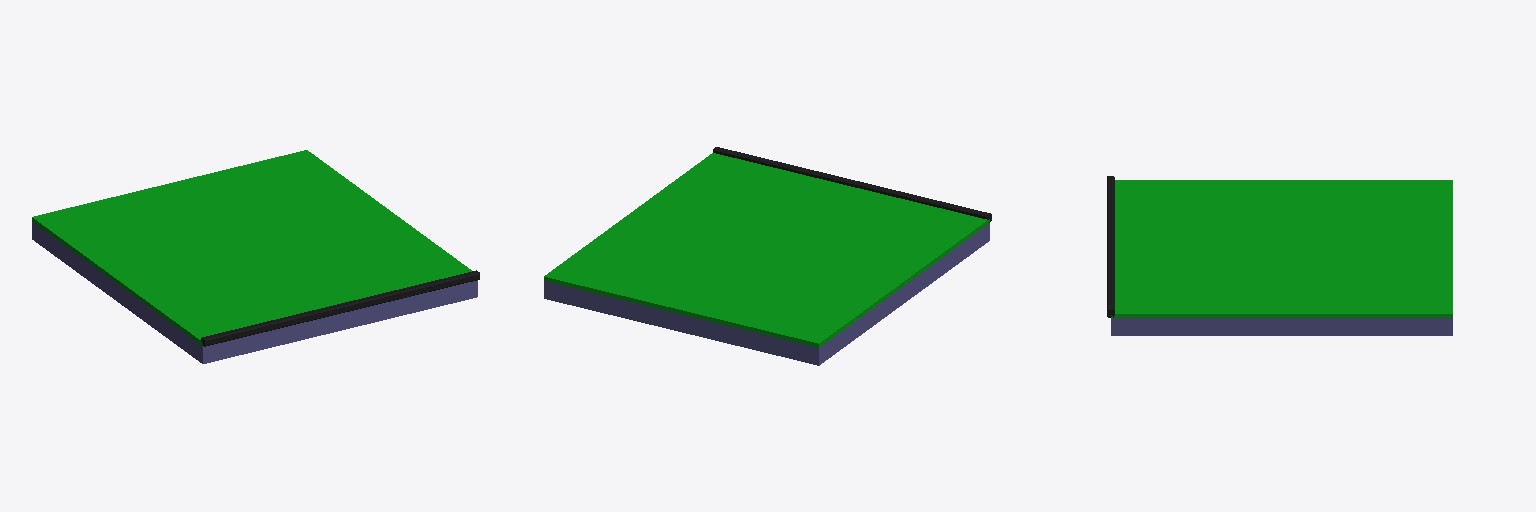
Rendered from MenuWithoutRoad.obj.
3 renders of one model, left to right at view 1: azimuth 30°, elevation 25°; view 2: azimuth 150°, elevation 25°; view 3: azimuth 270°, elevation 25°, orthographic.
Parts seen in each view (by area): view 1: block, arch_horizontal; view 2: block, arch_horizontal; view 3: block, arch_horizontal.
Boxes of the visible parts, <box> form: block: <box>32,150,477,363</box>; arch_horizontal: <box>201,270,479,346</box>; block: <box>544,153,989,365</box>; arch_horizontal: <box>713,147,991,222</box>; block: <box>1111,180,1452,335</box>; arch_horizontal: <box>1107,176,1114,317</box>.
Size of the model in its own units: 13 by 1.17 by 14.16.